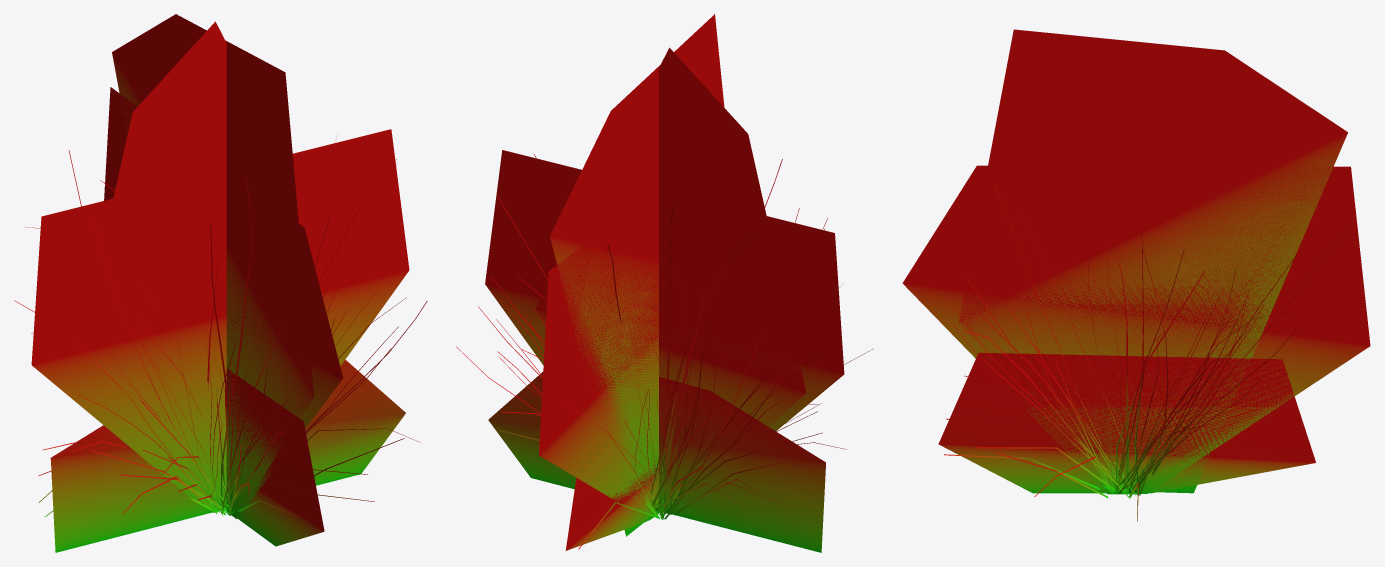
The model's file is Xeric Grass_LOD4_Var5_xjfgdhaqx.fbx.
3 views of the same model, side by side, from view 1: azimuth 30°, elevation 25°; view 2: azimuth 150°, elevation 25°; view 3: azimuth 270°, elevation 25° (orthographic). The views are drawn at different scales.
Visible parts, largest first — view 1: _7xdh_Var5_LOD4; view 2: _7xdh_Var5_LOD4; view 3: _7xdh_Var5_LOD4.
Part boxes in pixels (box(x1,y1,x2,y2)): _7xdh_Var5_LOD4: box(14, 14, 427, 552); _7xdh_Var5_LOD4: box(456, 14, 873, 552); _7xdh_Var5_LOD4: box(902, 29, 1370, 521).
Bounding box in the file's own units: 246 × 307 × 274.
